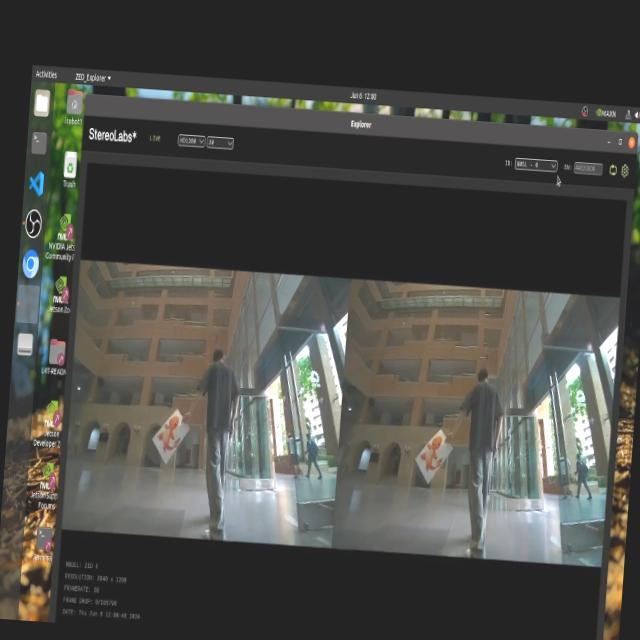red: (154, 408, 180, 459), (419, 429, 446, 474)
